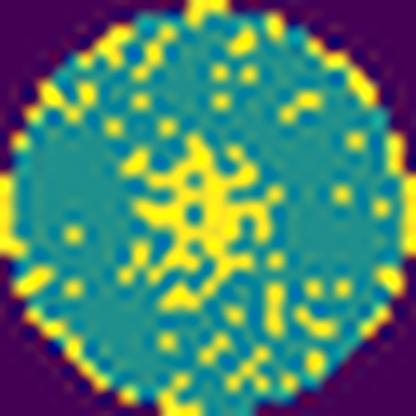Center: (126, 129, 285, 316)
